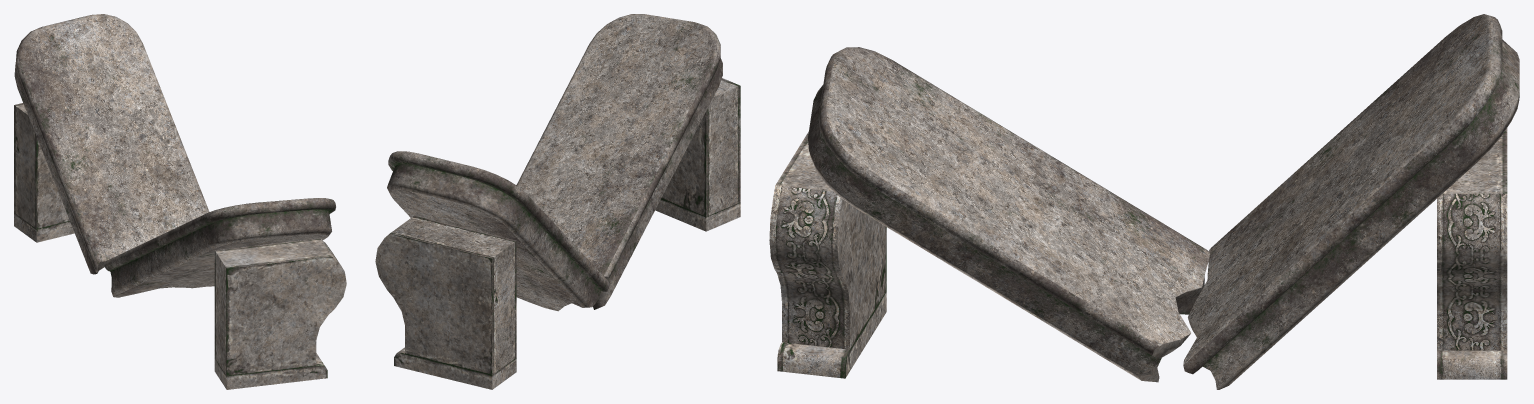
File: Bench_Broken.fbx
The picture shows the model from 3 angles, left to right: view 1: azimuth 30°, elevation 25°; view 2: azimuth 150°, elevation 25°; view 3: azimuth 270°, elevation 25°; orthographic projection. The views are drawn at different scales.
Visible parts, largest first — view 1: TopBroken.001, LegsBroken.001, TopBroken, LegsBroken; view 2: TopBroken, LegsBroken, TopBroken.001, LegsBroken.001; view 3: TopBroken, TopBroken.001, LegsBroken.001, LegsBroken.
Part boxes in pixels (left/top/right/bottom): TopBroken.001: left=14, top=14, right=209, bottom=274; LegsBroken.001: left=214, top=238, right=346, bottom=389; TopBroken: left=104, top=198, right=335, bottom=297; LegsBroken: left=14, top=103, right=74, bottom=242; TopBroken: left=516, top=14, right=722, bottom=309; LegsBroken: left=375, top=215, right=516, bottom=389; TopBroken.001: left=387, top=151, right=609, bottom=311; LegsBroken.001: left=655, top=78, right=740, bottom=231; TopBroken: left=808, top=47, right=1210, bottom=382; TopBroken.001: left=1183, top=14, right=1519, bottom=389; LegsBroken.001: left=769, top=131, right=886, bottom=378; LegsBroken: left=1437, top=128, right=1507, bottom=379.
Size of the model in its own units: 55.22 by 82 by 181.
